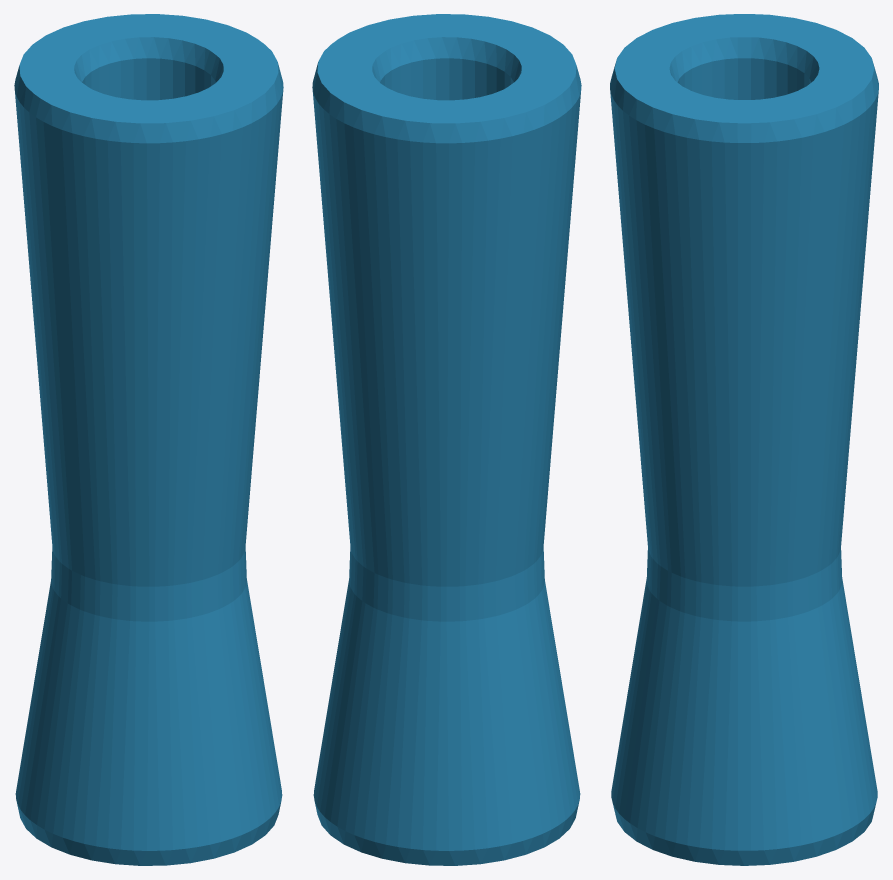
File: token_round_hole_big.fbx
The picture shows the model from 3 angles, left to right: view 1: azimuth 30°, elevation 25°; view 2: azimuth 150°, elevation 25°; view 3: azimuth 270°, elevation 25°; orthographic projection.
Visible parts, largest first — view 1: token_round_hole_big_1; view 2: token_round_hole_big_1; view 3: token_round_hole_big_1.
Boxes of the visible parts, x1=… form: token_round_hole_big_1: x1=14, y1=14, x2=283, y2=865; token_round_hole_big_1: x1=312, y1=14, x2=581, y2=865; token_round_hole_big_1: x1=610, y1=14, x2=878, y2=865.
Size of the model in its own units: 197 by 600 by 197.
